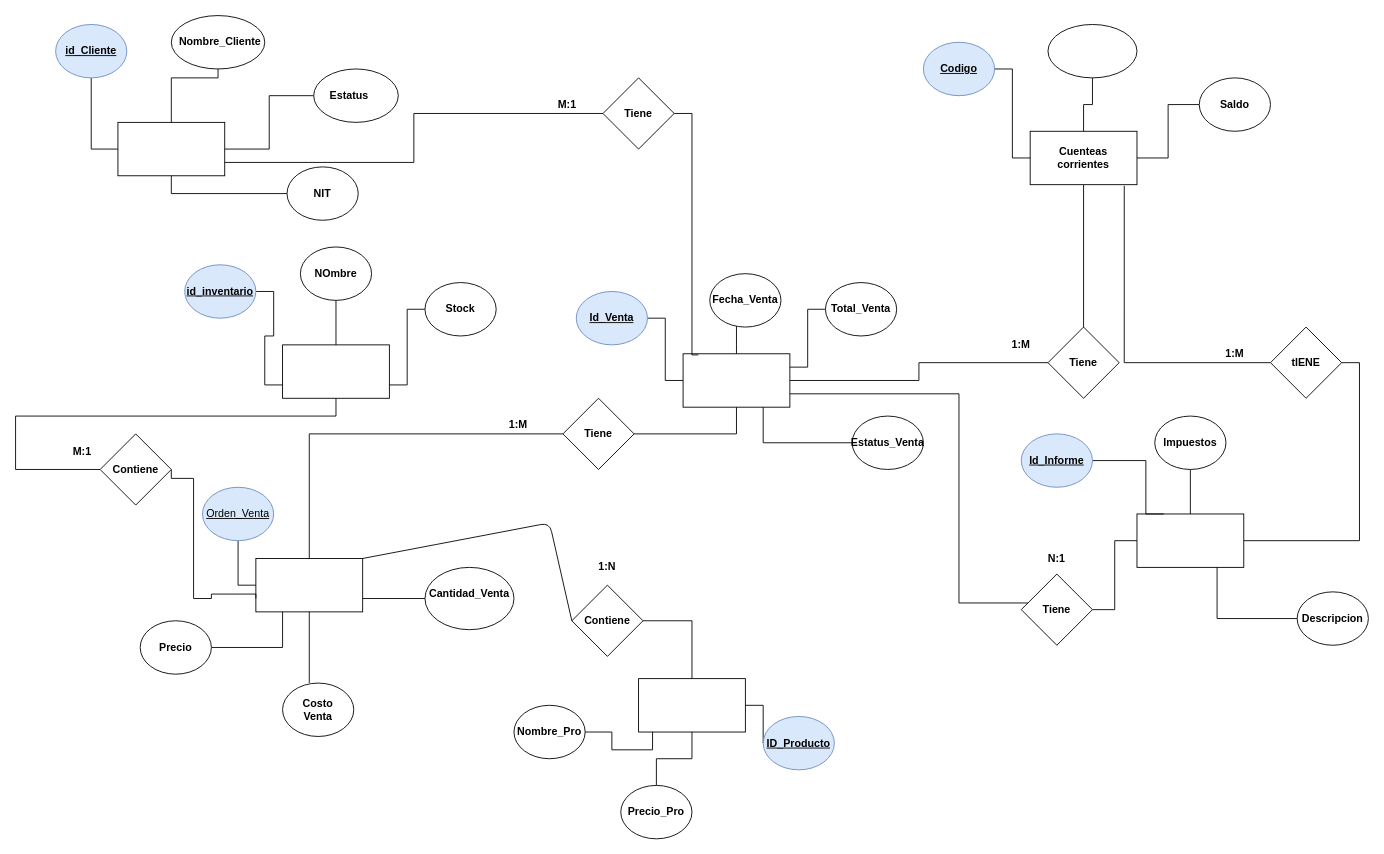
The diagram is 1384 pixels wide and 854 high, and some of its shapes have lost their labels. Here are the shapes that lost their labels. From the top down, the box of each, then its label:
(1047, 24, 1137, 78): Tupo_Cuenta
(117, 121, 225, 176): Clientes
(282, 344, 389, 398): Inventarios
(682, 353, 790, 407): Venta Encabezado
(1136, 513, 1244, 567): Informes
(255, 558, 363, 612): Venta Detalle
(638, 678, 745, 732): Productos
